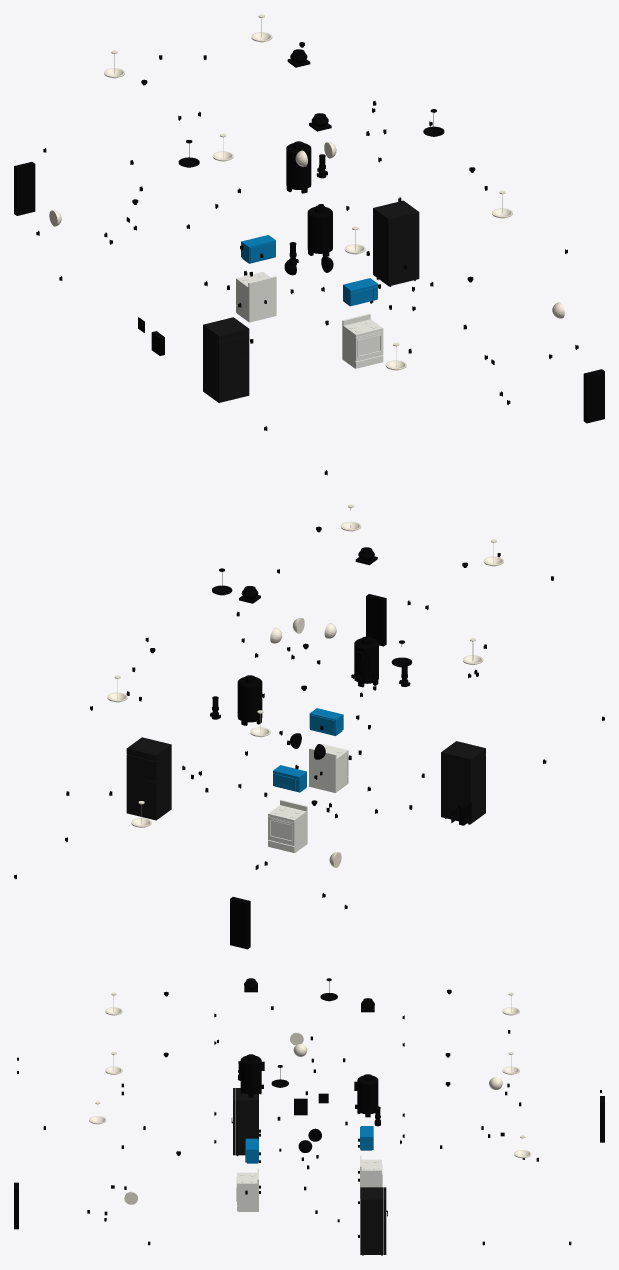
File: Duplex_Electrical_20121207.dae
3 renders of one model, top to bottom at view 1: azimuth 30°, elevation 25°; view 2: azimuth 150°, elevation 25°; view 3: azimuth 270°, elevation 25°, orthographic. The views are drawn at different scales.
Visible parts, largest first — view 1: node (×8); view 2: node (×8); view 3: node (×6).
Boxes of the visible parts, x1=… form: node (×8): x1=14, y1=14, x2=604, y2=423; node (×8): x1=107, y1=504, x2=503, y2=949; node (×6): x1=89, y1=992, x2=531, y2=1255.
Bounding box in the file's own units: 27.82 × 56.62 × 22.17.
